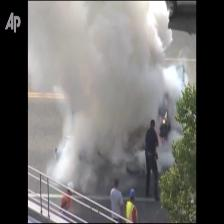smoke: (77, 11, 166, 165), (34, 7, 72, 83)
